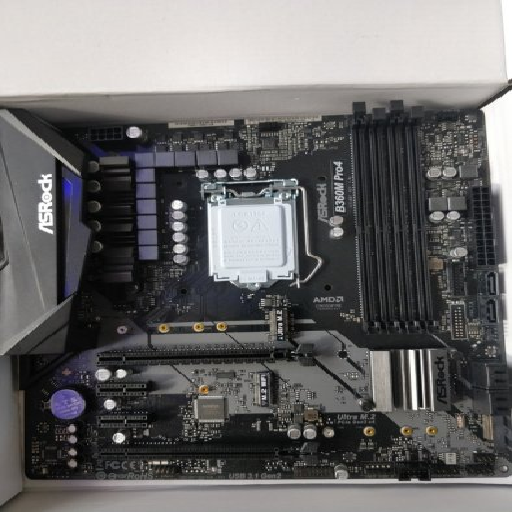CPU: (209, 201, 298, 291)
GPU: (97, 442, 320, 467), (95, 343, 316, 367)
MOTHERBOARD: (1, 100, 511, 482)
RAM: (347, 100, 440, 337)
SSD: (251, 371, 278, 407), (267, 308, 291, 342)
